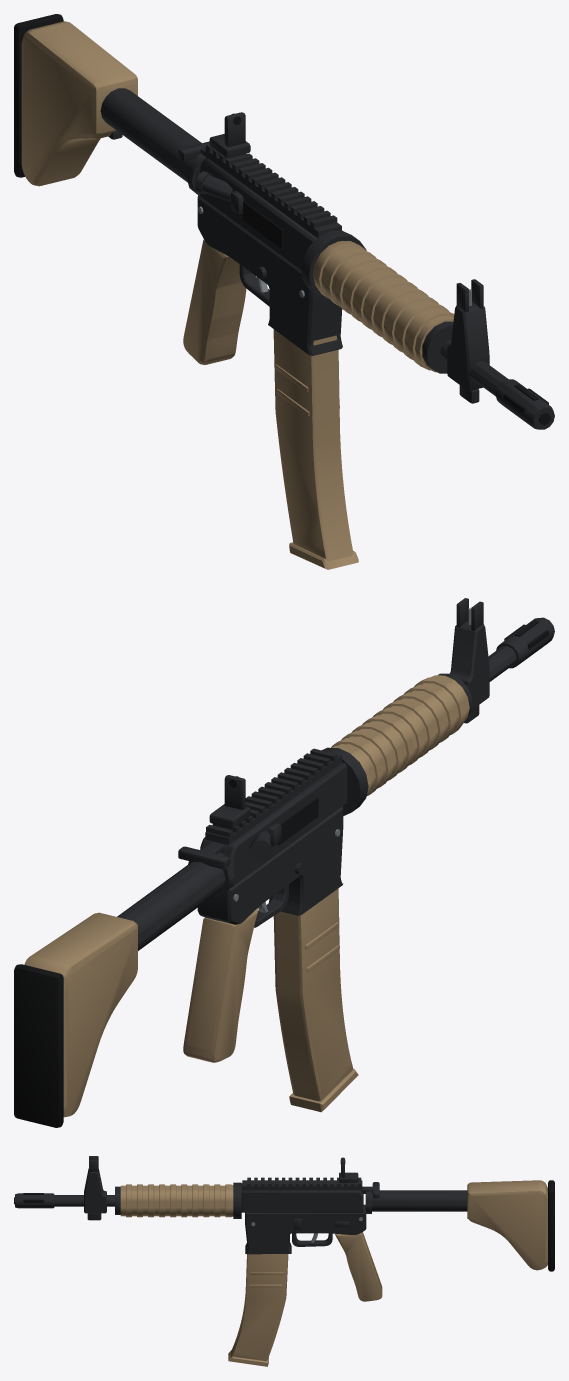
File: rifle.glb
3 views of the same model, one above another, from view 1: azimuth 30°, elevation 25°; view 2: azimuth 150°, elevation 25°; view 3: azimuth 270°, elevation 25° (orthographic). The views are drawn at different scales.
Visible parts, largest first — view 1: rifle_body, magazine; view 2: rifle_body, magazine; view 3: rifle_body, magazine.
Part boxes in pixels (left/top/right/bottom): rifle_body: left=14, top=14, right=554, bottom=429; magazine: left=273, top=329, right=358, bottom=569; rifle_body: left=14, top=598, right=554, bottom=1127; magazine: left=273, top=888, right=358, bottom=1112; rifle_body: left=14, top=1156, right=554, bottom=1301; magazine: left=228, top=1247, right=288, bottom=1366.
Bounding box in the file's own units: 0.0608 × 0.327 × 0.7835.
